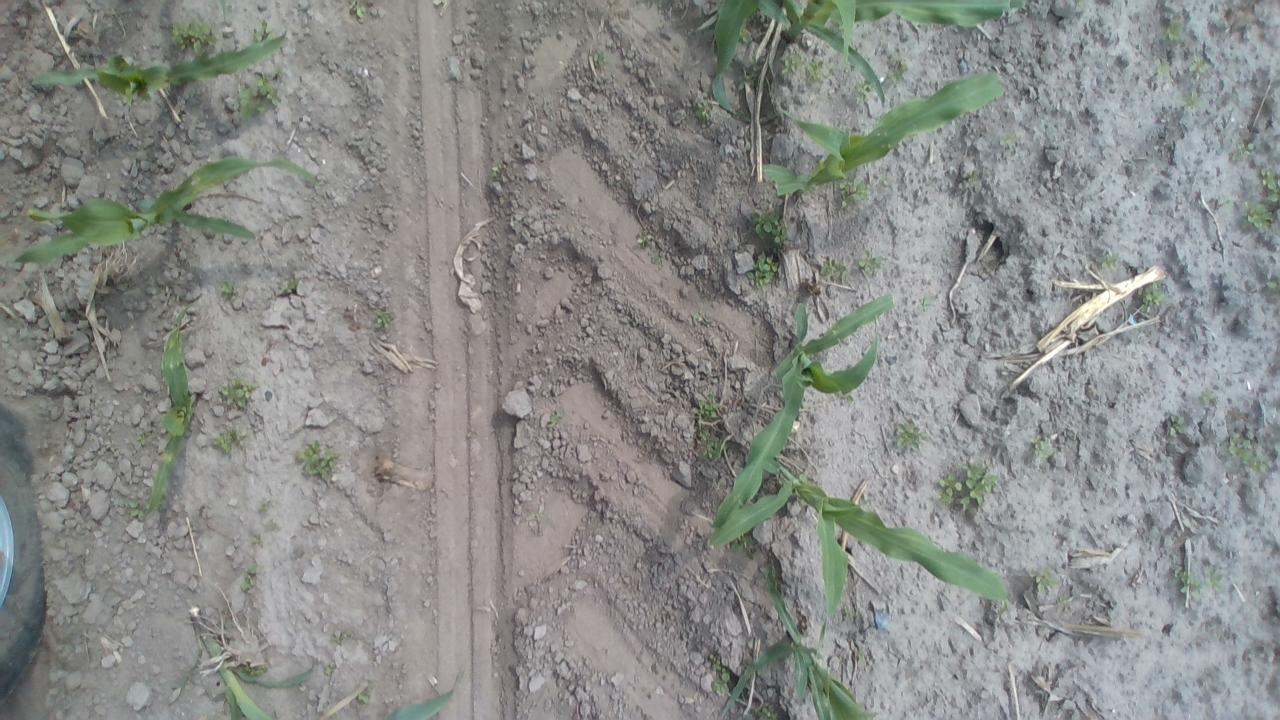Maize: (714, 444, 1012, 632), (709, 287, 898, 539), (10, 146, 321, 269), (704, 0, 1028, 116), (757, 66, 1011, 206), (182, 609, 470, 720), (714, 573, 900, 720), (30, 21, 296, 114), (129, 296, 212, 524)
Weeds: (936, 462, 1004, 516), (237, 68, 286, 122), (1218, 430, 1268, 480), (168, 16, 220, 56), (294, 439, 339, 482), (750, 205, 791, 249), (781, 53, 830, 89), (216, 373, 258, 412), (206, 424, 249, 460), (1238, 199, 1278, 236), (1172, 566, 1205, 608), (691, 391, 729, 427), (634, 226, 664, 270), (747, 252, 780, 292), (837, 176, 874, 210), (1139, 280, 1172, 317), (892, 419, 927, 452), (1032, 563, 1064, 598), (818, 252, 851, 284), (1030, 433, 1062, 466), (710, 654, 734, 697), (882, 56, 913, 89), (365, 304, 399, 334), (1259, 166, 1280, 210), (1228, 138, 1258, 168), (1160, 15, 1187, 48), (249, 18, 282, 44), (700, 431, 726, 464), (128, 494, 154, 524), (1204, 566, 1228, 598), (1164, 412, 1188, 444), (692, 93, 717, 122), (857, 250, 886, 275), (731, 533, 757, 560), (996, 127, 1024, 152), (524, 505, 552, 530), (546, 406, 570, 434), (240, 562, 260, 595), (1182, 89, 1206, 116), (915, 290, 937, 319), (744, 34, 760, 72), (279, 272, 303, 296), (242, 660, 270, 680), (486, 156, 504, 187), (852, 80, 876, 102), (1259, 274, 1280, 299), (1188, 55, 1210, 78), (963, 166, 982, 192), (1101, 250, 1123, 270), (1151, 57, 1170, 78), (218, 278, 236, 300), (758, 703, 781, 720), (332, 628, 352, 647), (254, 495, 274, 514), (840, 604, 859, 624), (348, 1, 369, 18), (592, 46, 608, 68), (1198, 386, 1216, 405), (324, 658, 338, 682), (356, 688, 372, 708), (877, 176, 893, 196), (132, 426, 146, 448), (854, 647, 870, 666), (736, 73, 751, 93), (249, 532, 266, 549), (702, 286, 714, 305), (690, 310, 706, 324)
